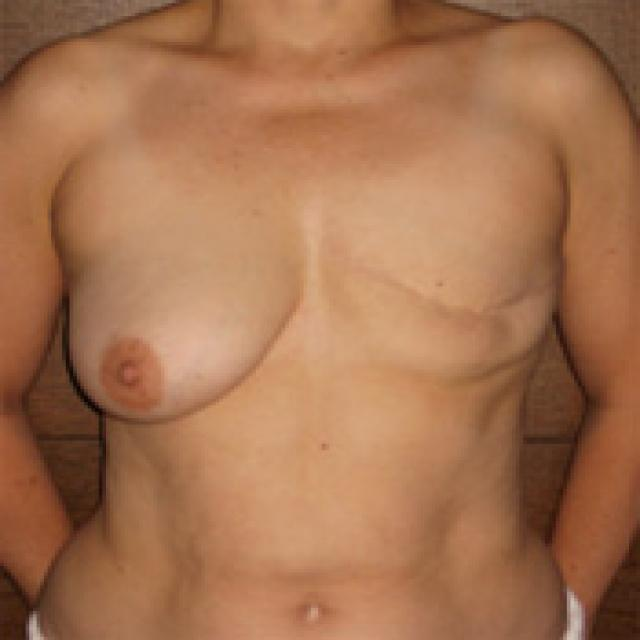Seno herido: (320, 188, 570, 398)
Seno ileso: (58, 194, 310, 441)
